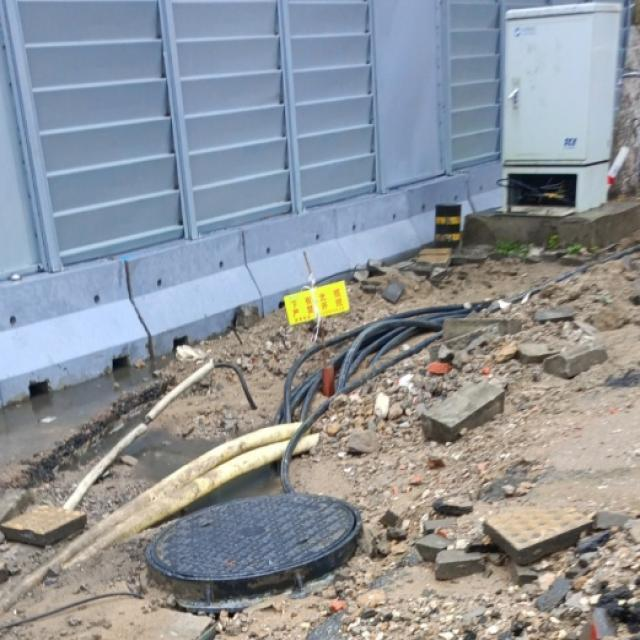Good: (126, 486, 374, 603)
